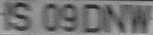0: (41, 3, 61, 33)
9: (61, 3, 79, 33)
D: (82, 3, 103, 34)
I: (1, 1, 10, 32)
N: (104, 2, 127, 35)
S: (11, 1, 33, 32)
W: (128, 4, 152, 33)
